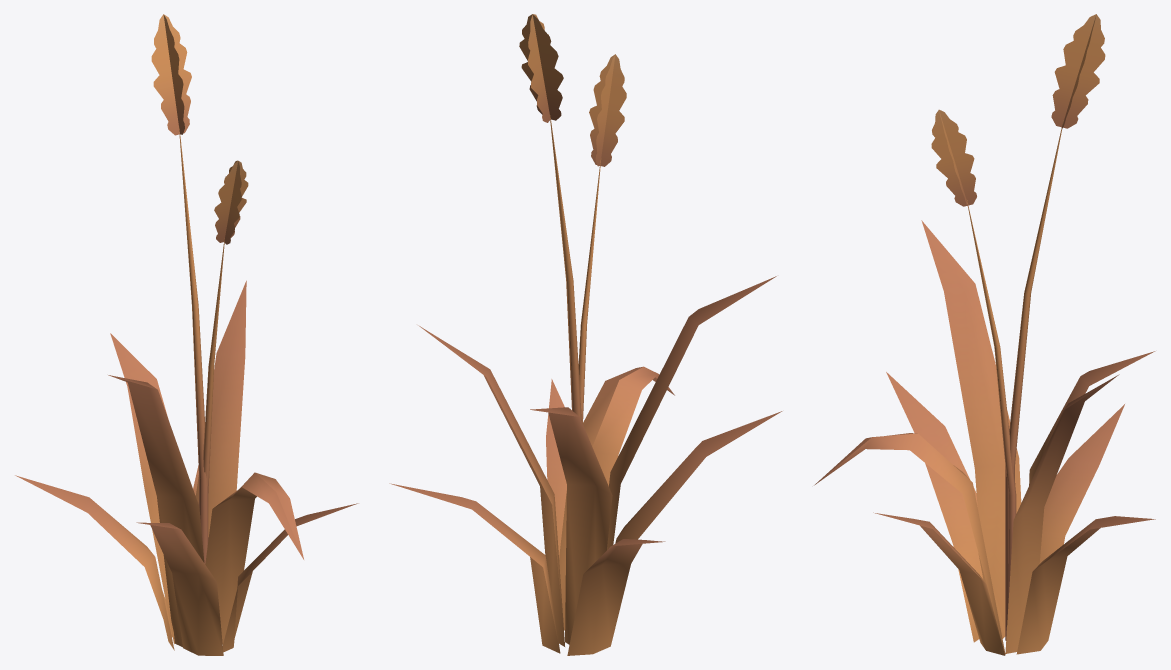
File: plant_10.fbx
3 views of the same model, side by side, from view 1: azimuth 30°, elevation 25°; view 2: azimuth 150°, elevation 25°; view 3: azimuth 270°, elevation 25° (orthographic). The views are drawn at different scales.
Parts seen in each view (by area): view 1: plant_10; view 2: plant_10; view 3: plant_10.
Boxes of the visible parts, x1,y1,x2,y2 form: plant_10: [15, 14, 358, 655]; plant_10: [389, 14, 782, 655]; plant_10: [814, 14, 1155, 655].
Bounding box in the file's own units: 2.42 × 5.68 × 2.82.
